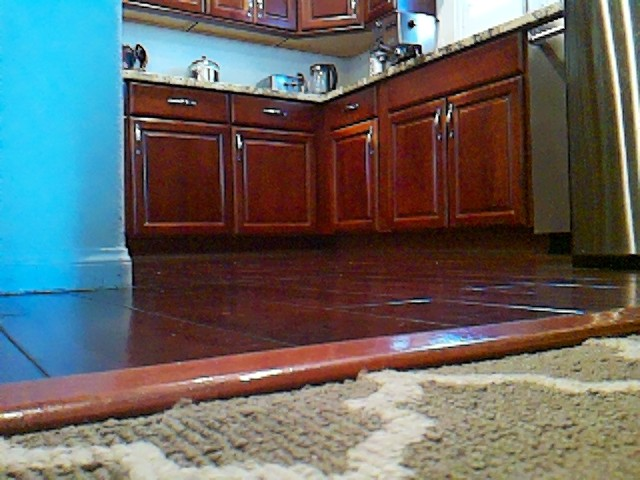Drivable Area: (2, 294, 639, 480), (136, 256, 567, 301)
Obstacle: (3, 0, 133, 292), (571, 0, 640, 267)
